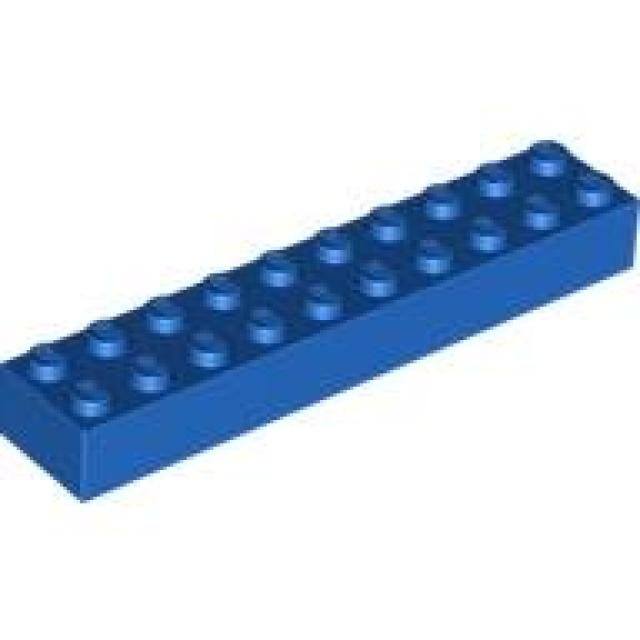Blue_Large: (0, 140, 640, 503)
